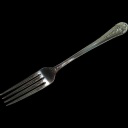fork: (1, 17, 128, 114)
